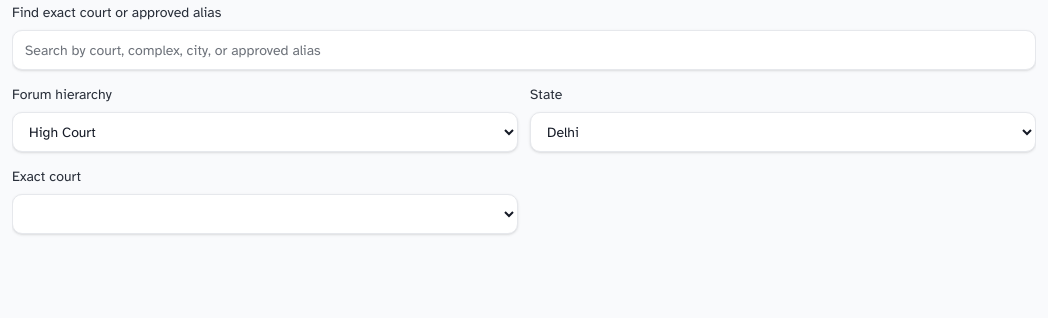
Test case: ForumSelector › finds a reviewed alias and selects its canonical court lineage
Type "tis-hazari court" into the field with test id "test-forum-court-search" at (524, 50), box [12,30,1036,70]
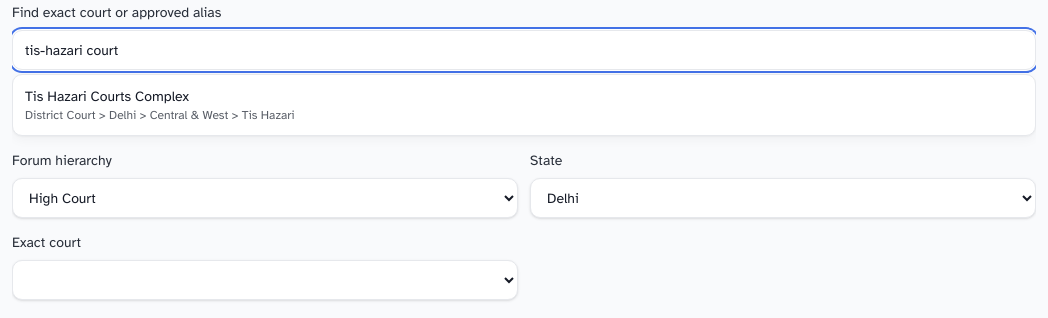
Click the option at (107, 96), box [17,79,1031,131]
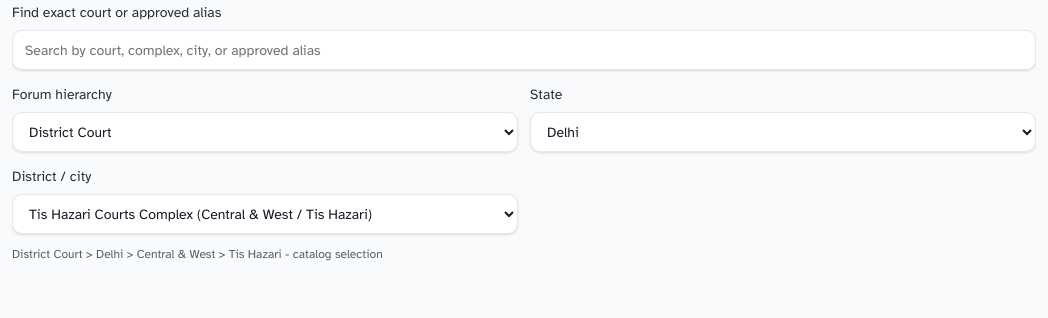
Result: the dropdown with test id "test-forum-category" shows "District Court" at [12,112,518,152]
Result: the dropdown with test id "test-forum-district" shows "Tis Hazari Courts Complex (Central & West / Tis Hazari)" at [12,194,518,234]
Result: the field with test id "test-forum-court-search" is empty at [12,30,1036,70]
